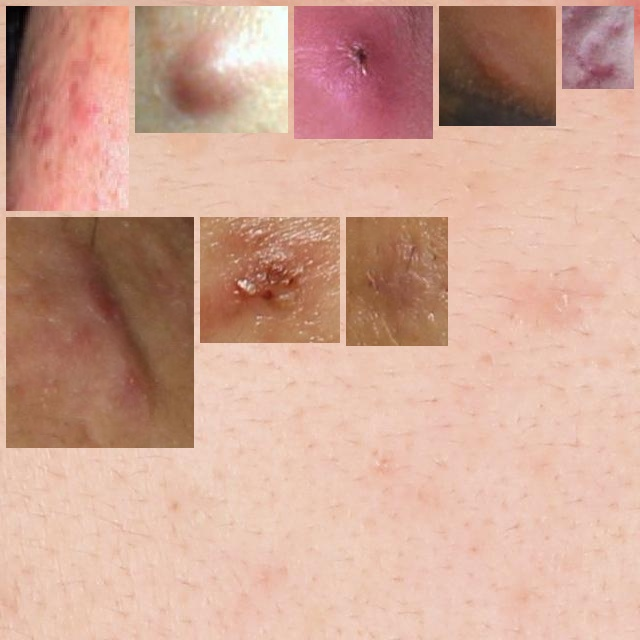nodule: (14, 225, 186, 440), (11, 14, 121, 203), (143, 14, 280, 125), (302, 14, 425, 131), (208, 225, 332, 335), (447, 14, 548, 118), (354, 225, 440, 338), (570, 14, 626, 81)
